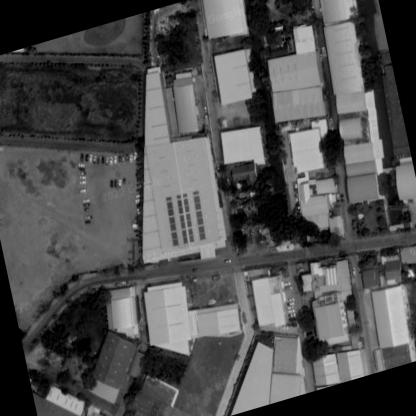solar-pv-panel: (177, 193, 194, 244), (193, 190, 206, 239), (166, 196, 178, 246)
